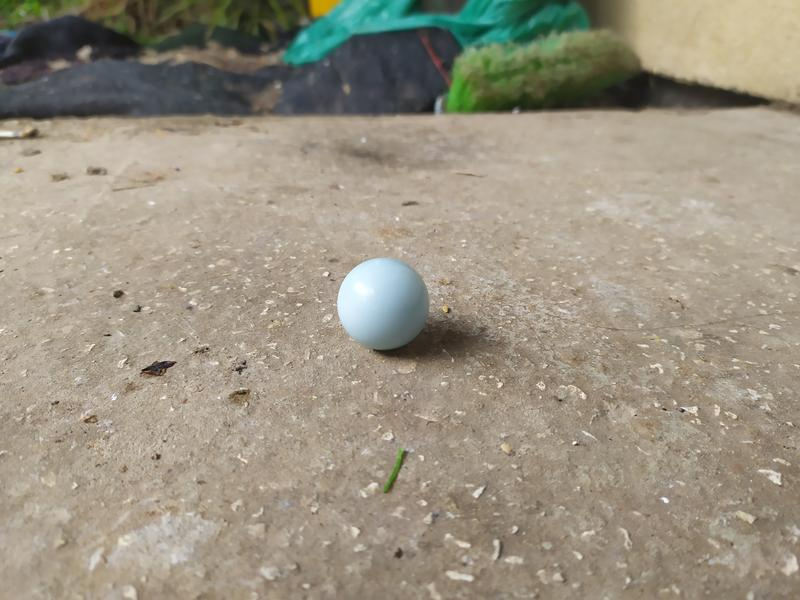Warning: (333, 254, 433, 353)
